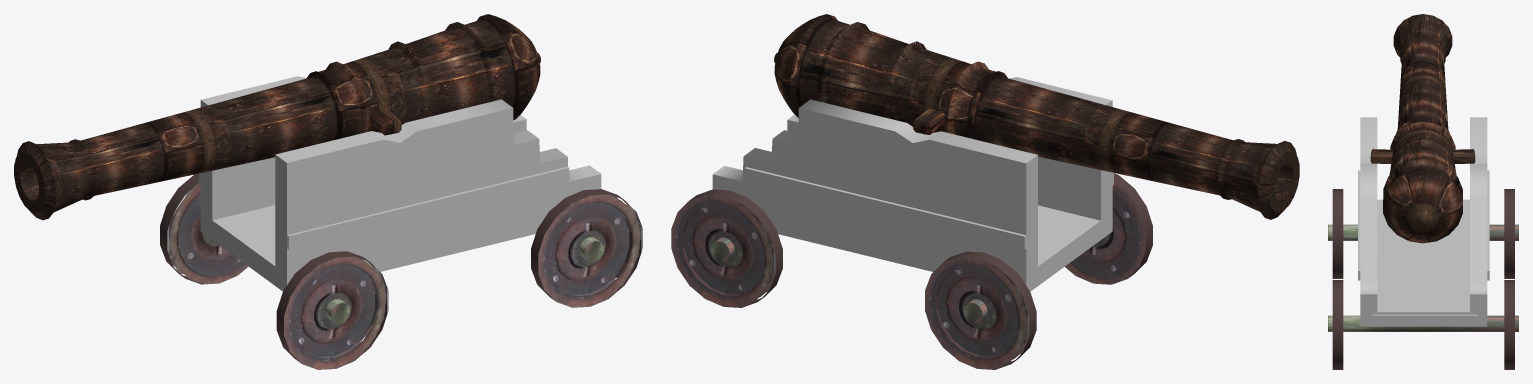
Rendered from cannon.FBX.
3 views of the same model, side by side, from view 1: azimuth 30°, elevation 25°; view 2: azimuth 150°, elevation 25°; view 3: azimuth 270°, elevation 25° (orthographic). The views are drawn at different scales.
Parts seen in each view (by area): view 1: Box01, Cylinder01, Cylinder03, Cylinder09, Cylinder07, Box02; view 2: Box01, Cylinder01, Cylinder08, Cylinder07, Cylinder03, Box03; view 3: Box01, Cylinder01, Cylinder06, Box04, Cylinder03, Cylinder09, Cylinder07, Cylinder08, Cylinder02, Box02, Box03.
Part boxes in pixels (x1,y1,x2,y2): Box01: (200, 76, 601, 291); Cylinder01: (14, 14, 540, 220); Cylinder03: (276, 251, 388, 369); Cylinder09: (531, 189, 642, 307); Cylinder07: (160, 173, 248, 284); Box02: (287, 166, 569, 249); Box01: (712, 77, 1112, 291); Cylinder01: (774, 14, 1299, 219); Cylinder08: (671, 189, 782, 307); Cylinder07: (925, 251, 1036, 369); Cylinder03: (1065, 173, 1152, 284); Box03: (744, 167, 1026, 249); Box01: (1360, 117, 1487, 326); Cylinder01: (1370, 14, 1475, 243); Cylinder06: (1328, 315, 1518, 331); Box04: (1372, 314, 1477, 325); Cylinder03: (1332, 189, 1343, 278); Cylinder09: (1332, 280, 1343, 369); Cylinder07: (1504, 189, 1514, 278); Cylinder08: (1504, 280, 1514, 369); Cylinder02: (1328, 224, 1518, 240); Box02: (1358, 170, 1360, 280); Box03: (1487, 170, 1489, 280).
Bounding box in the file's own units: 224 × 97.75 × 91.44.
